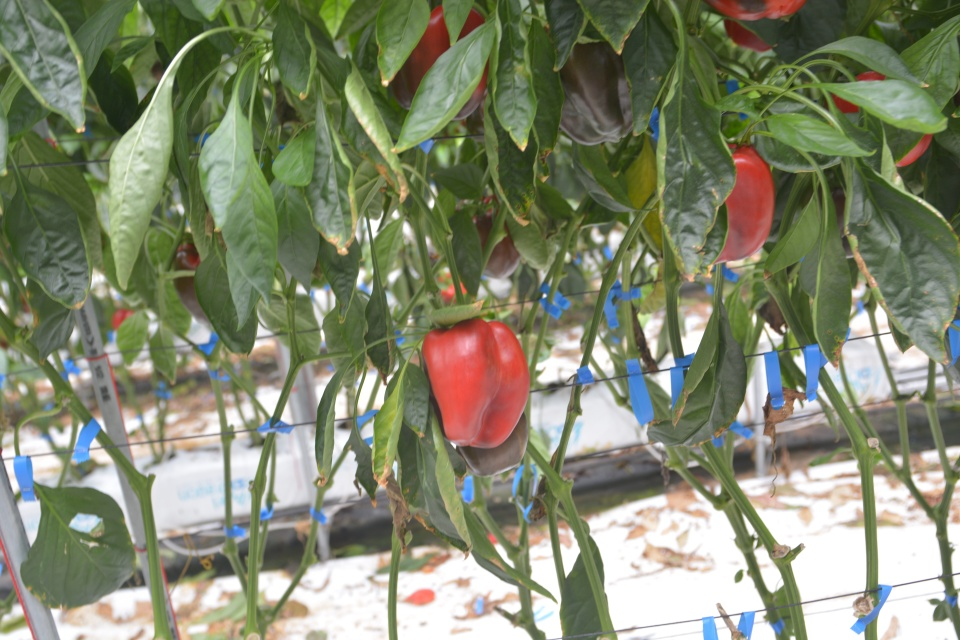fruit: (422, 317, 532, 449), (390, 4, 492, 121), (824, 68, 934, 168), (556, 40, 634, 147), (713, 140, 776, 263), (457, 194, 522, 280), (456, 410, 529, 479), (172, 239, 212, 324)
